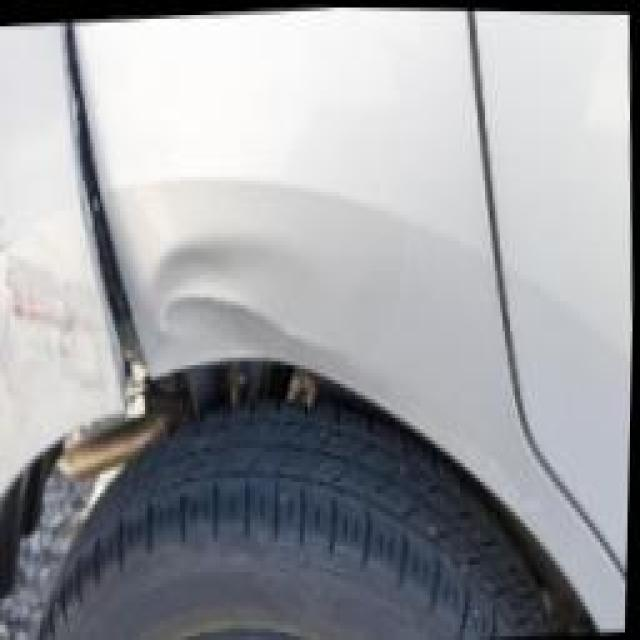Fender: (0, 0, 452, 497)
